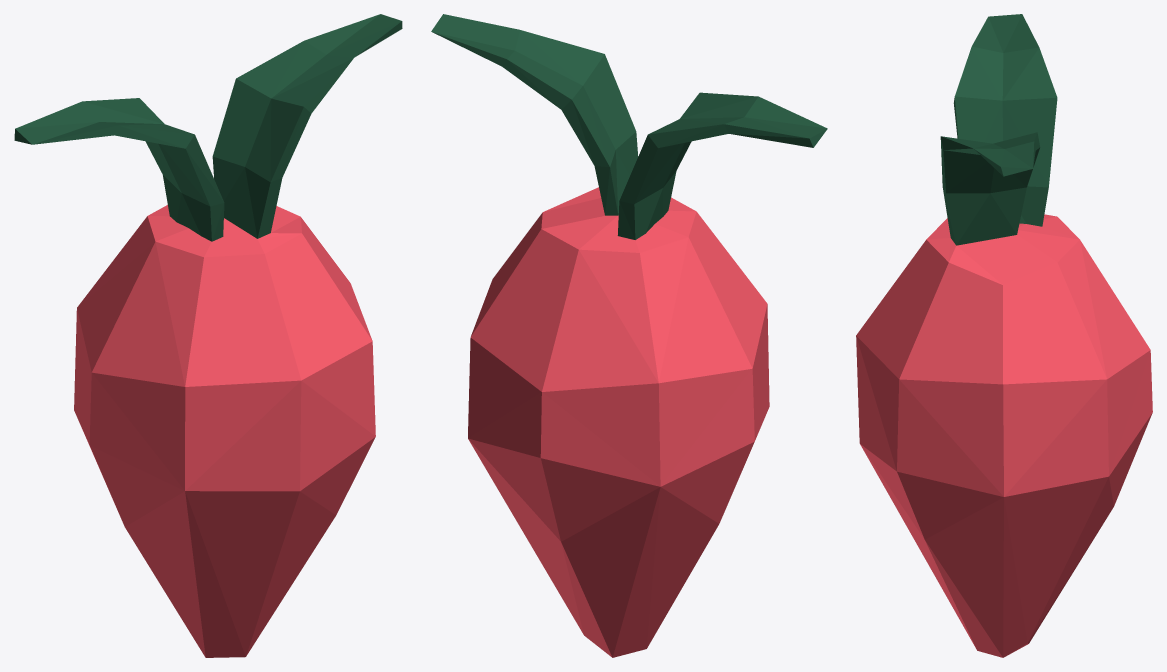
Rendered from Beetroot_S.fbx.
The picture shows the model from 3 angles, left to right: view 1: azimuth 30°, elevation 25°; view 2: azimuth 150°, elevation 25°; view 3: azimuth 270°, elevation 25°; orthographic projection. The views are drawn at different scales.
Visible parts, largest first — view 1: Beetroot_S; view 2: Beetroot_S; view 3: Beetroot_S.
Boxes of the visible parts, left/top/right/bottom form: Beetroot_S: left=14, top=14, right=402, bottom=657; Beetroot_S: left=431, top=14, right=827, bottom=657; Beetroot_S: left=856, top=14, right=1152, bottom=657.
Size of the model in its own units: 13.11 by 19.32 by 9.23.
